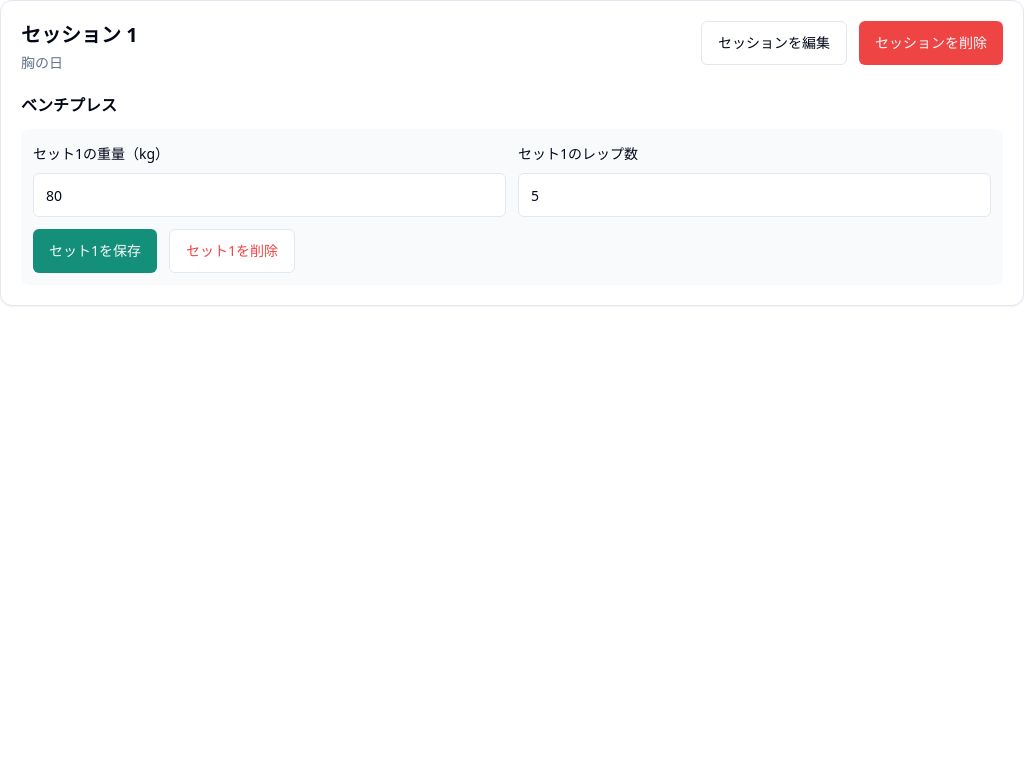
WorkoutSessionCard › switches to the full session edit form
The width and height of the screenshot is (1024, 768).
What coordinates should you click on to do the following:
click the button "セッションを編集"
I would click on:
 (774, 43)
Its box is [701,21,847,65].
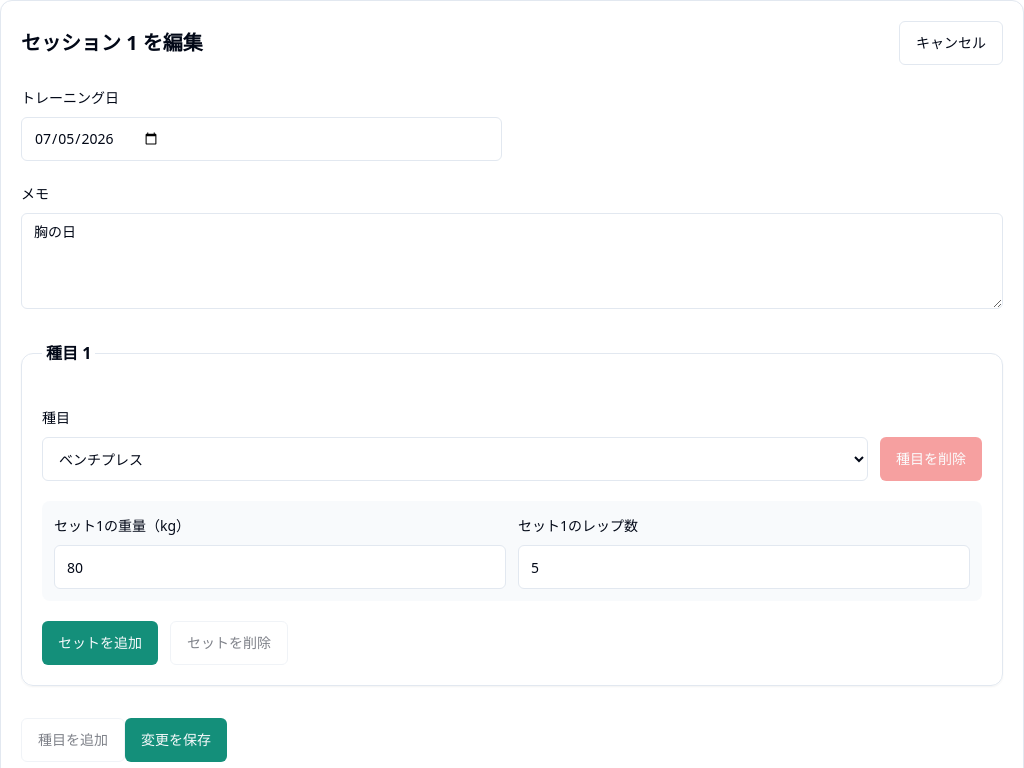
Result: the button "変更を保存" is shown at [125,718,227,762]
